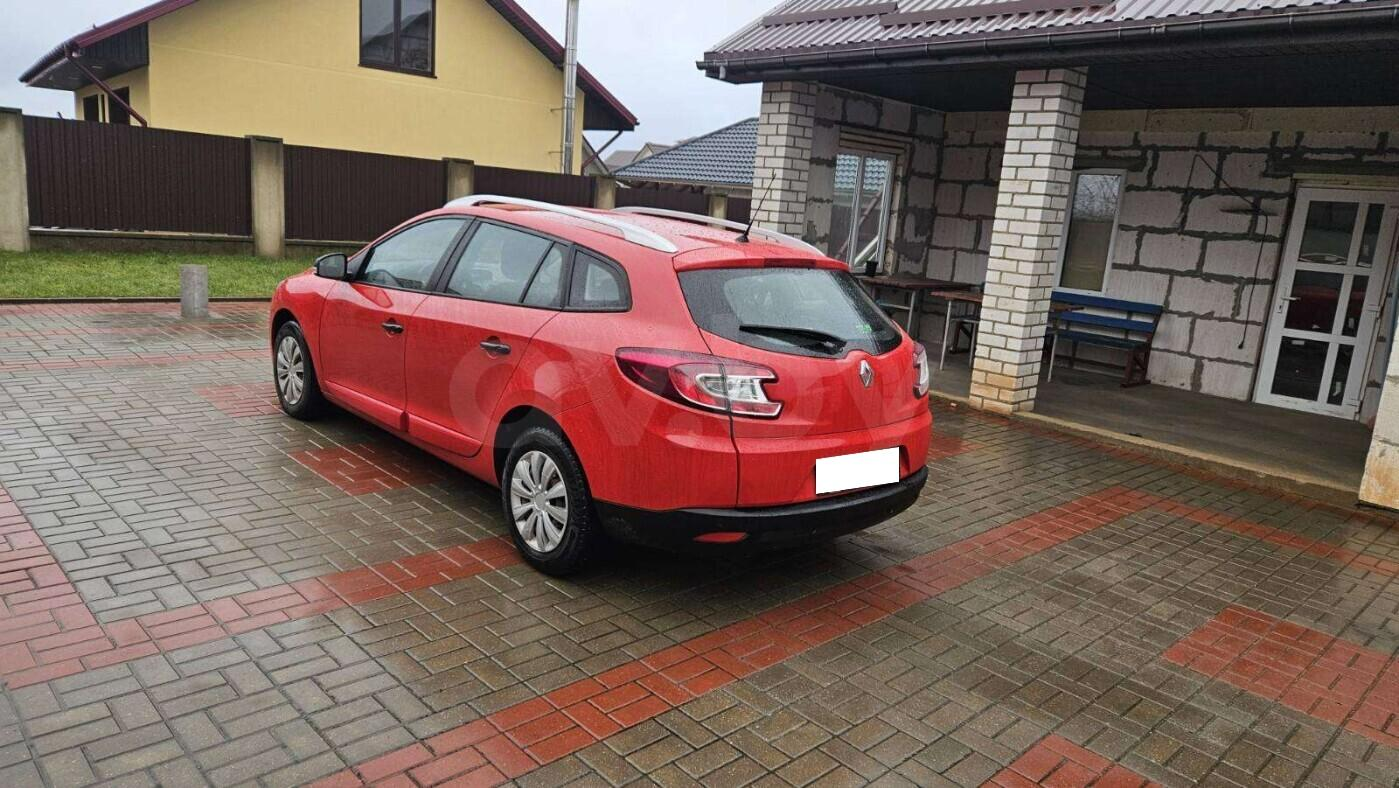Laguna_2010-2015: (266, 202, 941, 583)
